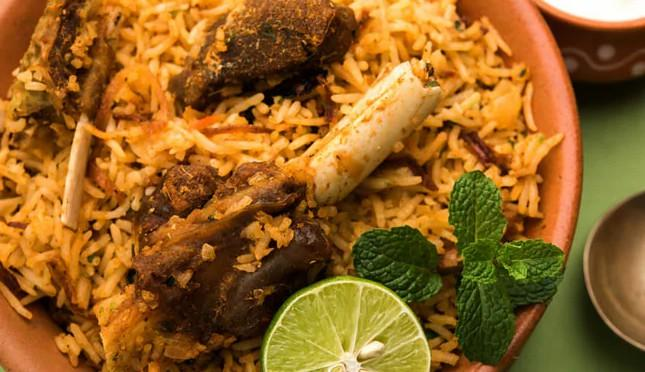Biryani: (0, 0, 567, 372)
